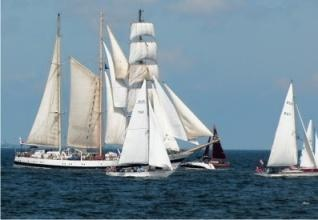fanchuan: (8, 1, 219, 167), (245, 83, 318, 184), (104, 77, 176, 178), (298, 117, 318, 171)
